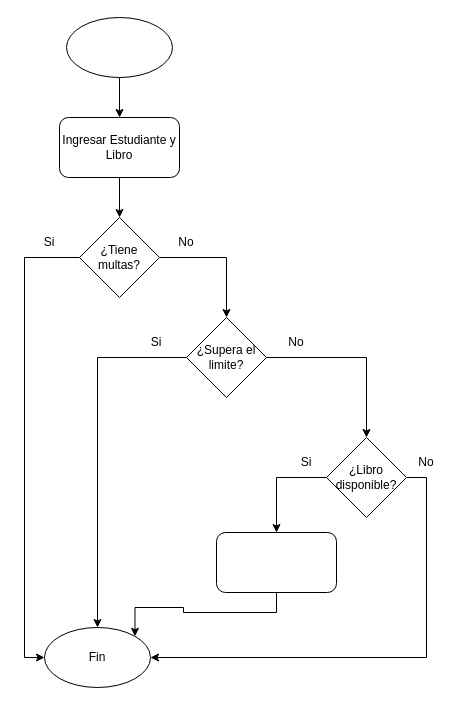
Some shapes in this 474 by 705 pixel diagram are drawn without their labels. The centre of each missing label's shape, as x and y in pixels:
Inicio: (x=119, y=47)
Registrar prestamo: (x=276, y=562)
